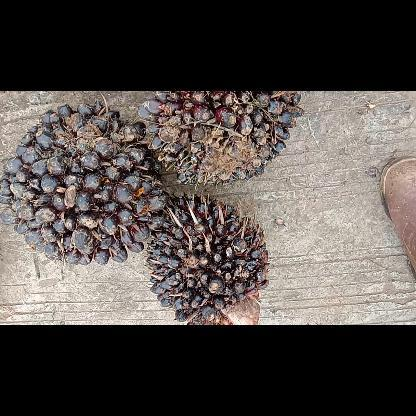TBS mentah: (0, 100, 168, 268), (144, 190, 272, 324), (134, 91, 306, 190)
